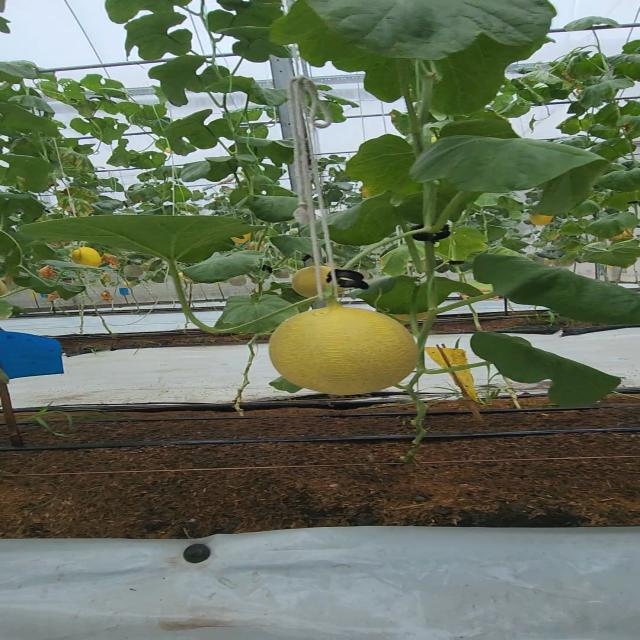Front-melon: (269, 303, 419, 395)
Rear-melon: (294, 266, 328, 296), (74, 248, 102, 264)
